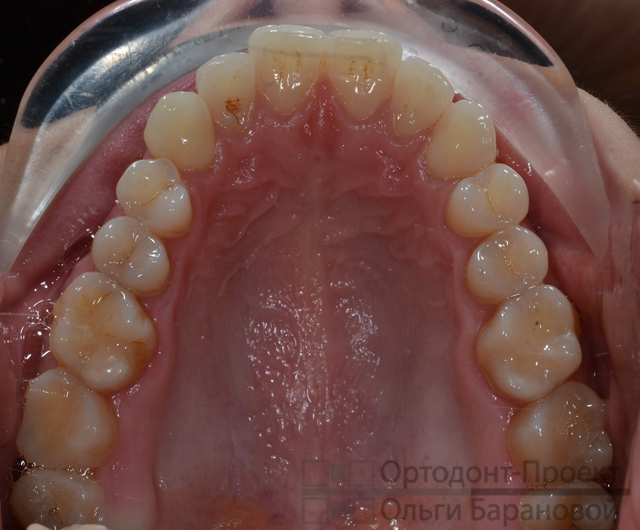UL1BC_healthy: (450, 168, 528, 230)
UL1M_healthy: (474, 293, 583, 395)
UL2BC_healthy: (465, 232, 551, 293)
UL2M_healthy: (507, 397, 612, 461)
ULCI_healthy: (326, 30, 398, 124)
ULC_healthy: (428, 103, 498, 179)
ULLI_healthy: (394, 56, 452, 137)
UR1BC_healthy: (117, 158, 194, 234)
UR1M_healthy: (52, 279, 159, 387)
UR2BC_healthy: (94, 220, 174, 295)
UR2M_healthy: (22, 376, 118, 469)
UR3M_healthy: (16, 474, 108, 522)
URCI_decay: (250, 26, 330, 115)
URC_healthy: (148, 95, 219, 168)
URLI_decay: (197, 58, 256, 136)
